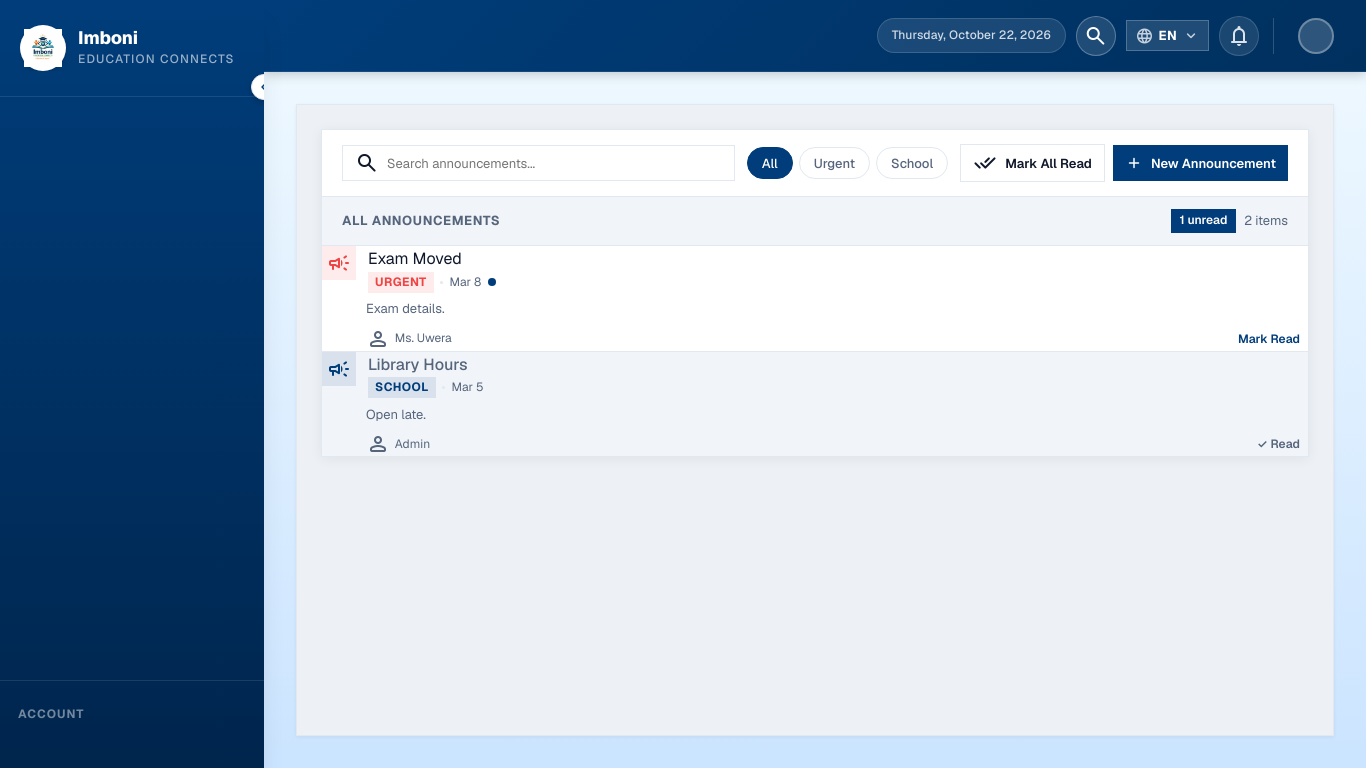
Scenario: AnnouncementFeed › composes and publishes a new announcement when canCompose is true
The width and height of the screenshot is (1366, 768).
Click the button "New Announcement" at coordinates (1200, 163), box [1113,145,1288,181]
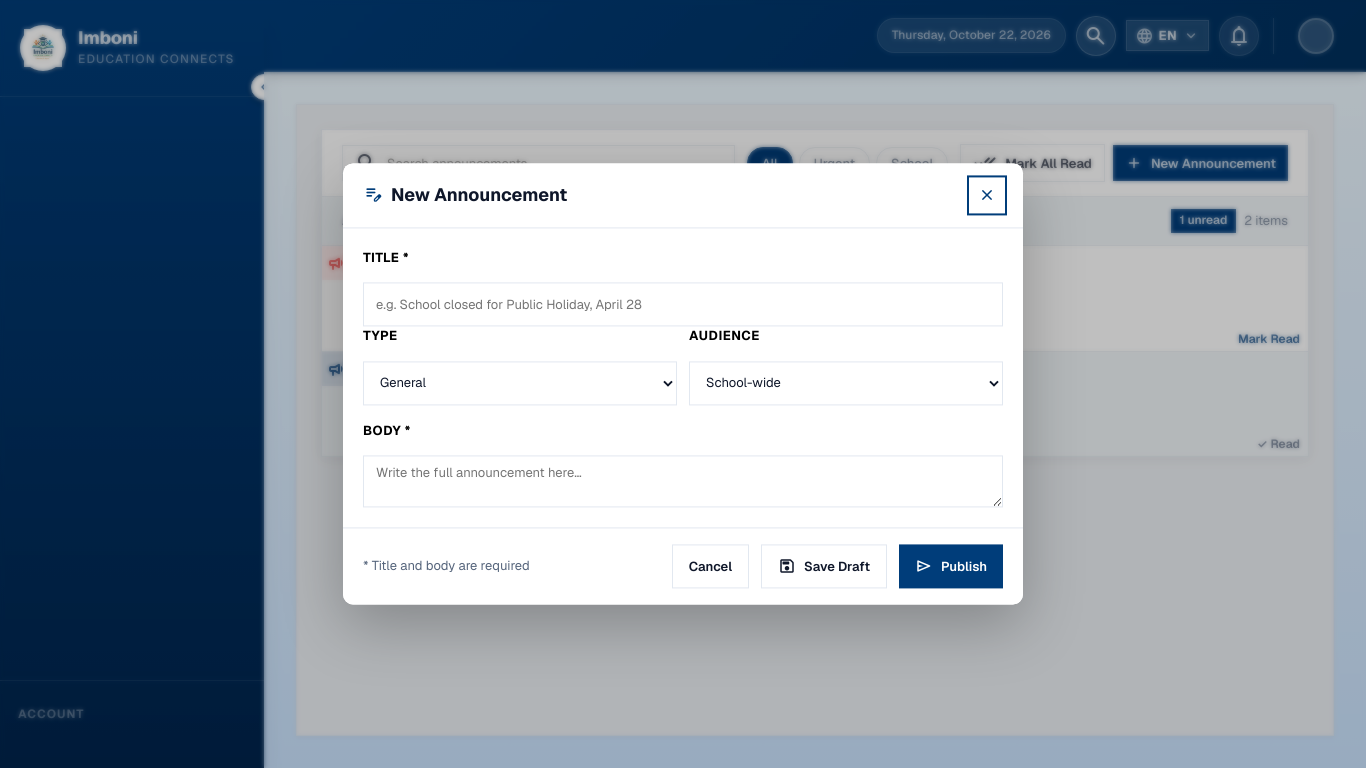
Check: the text "* Title and body are required" is shown, box [363,557,530,574]
Type "New Notice" into the field with placeholder "e.g. School closed for Public Holiday, April 28" at coordinates (683, 305), box [363,283,1003,327]
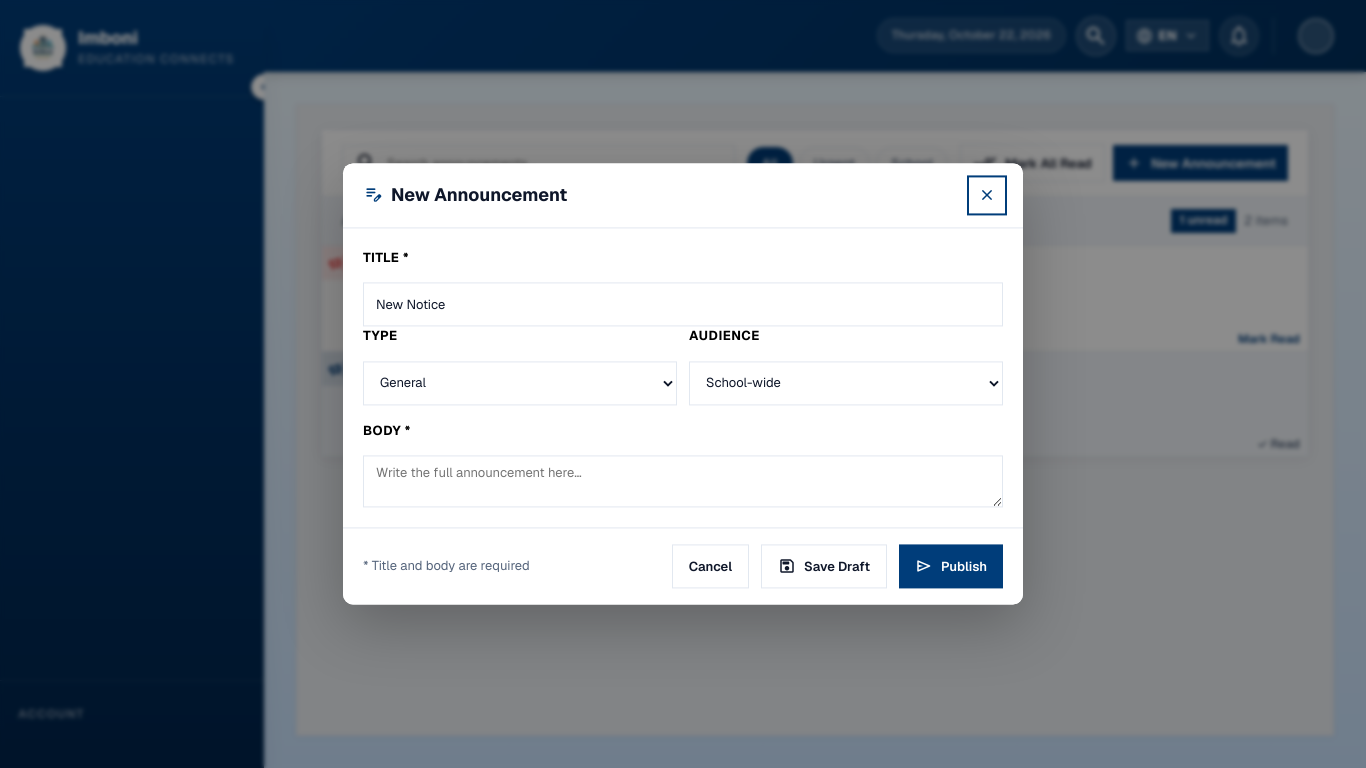
Type "Body text." into the text box with placeholder "Write the full announcement here…" at coordinates (683, 482), box [363,456,1003,508]
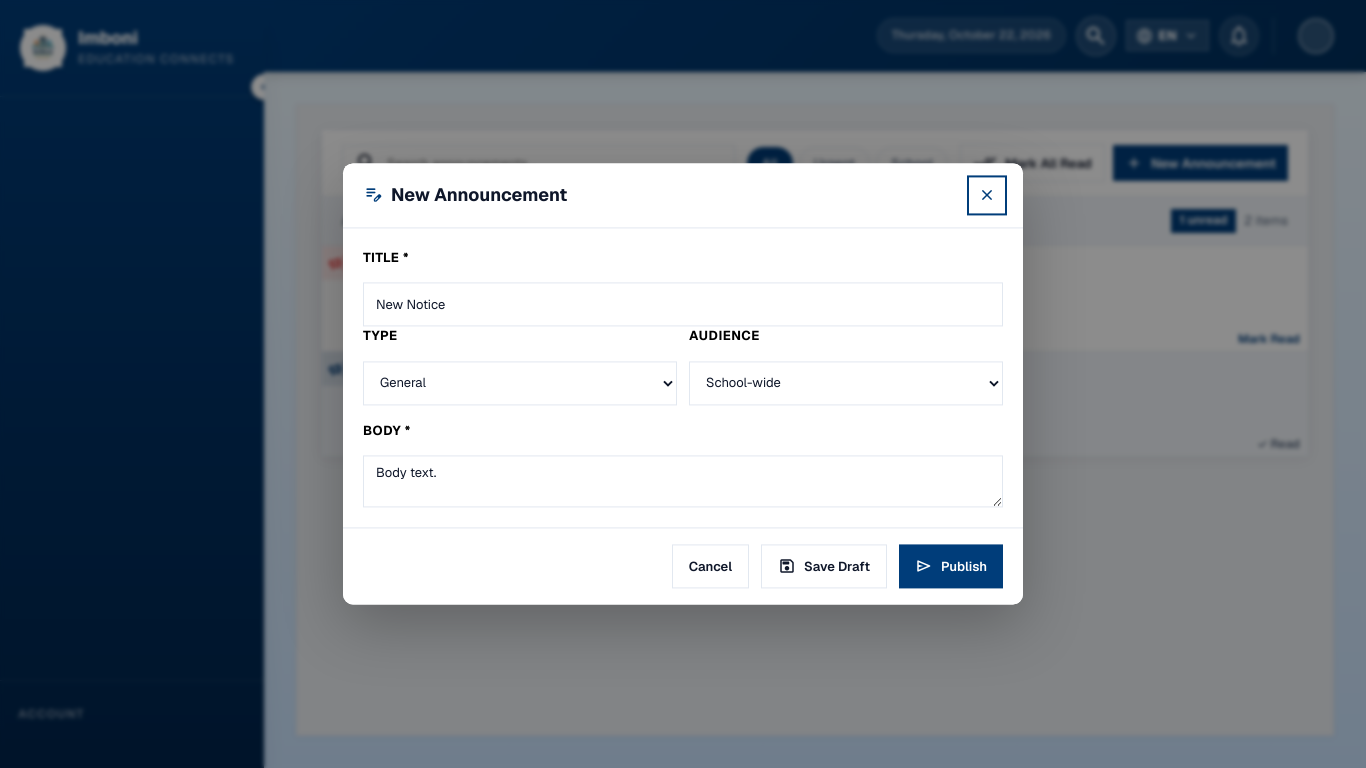
Click the button "Publish" at coordinates (951, 567), box [899,545,1003,589]
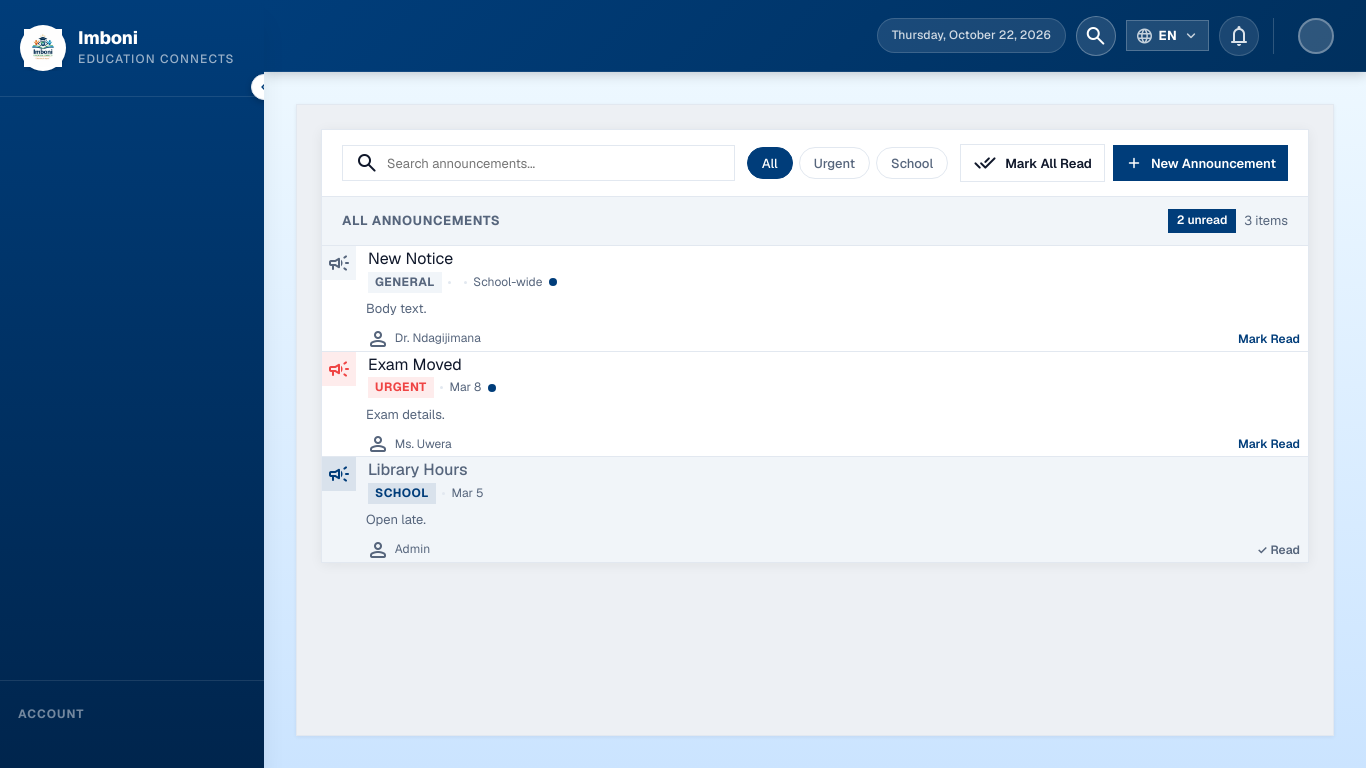
Check: the text "New Notice" is shown, box [368,248,453,269]
